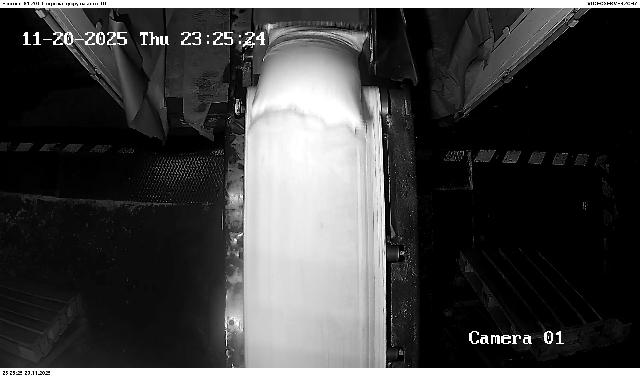bag: (250, 23, 372, 130)
